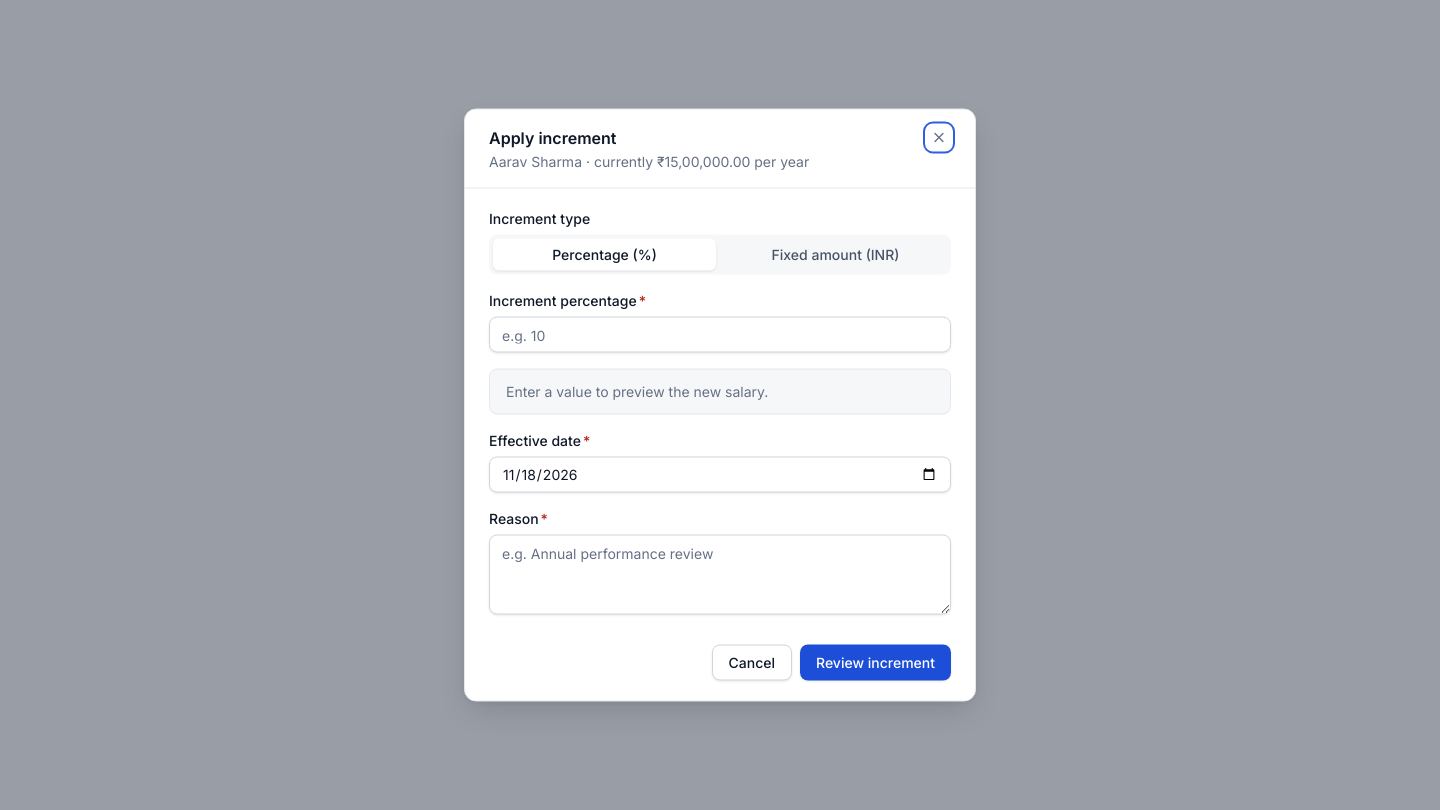
Test: IncrementDialog › switches to a fixed amount and previews the derived percentage
Click the radio button labelled "Fixed amount (INR)" at (836, 254), box [724,238,947,270]
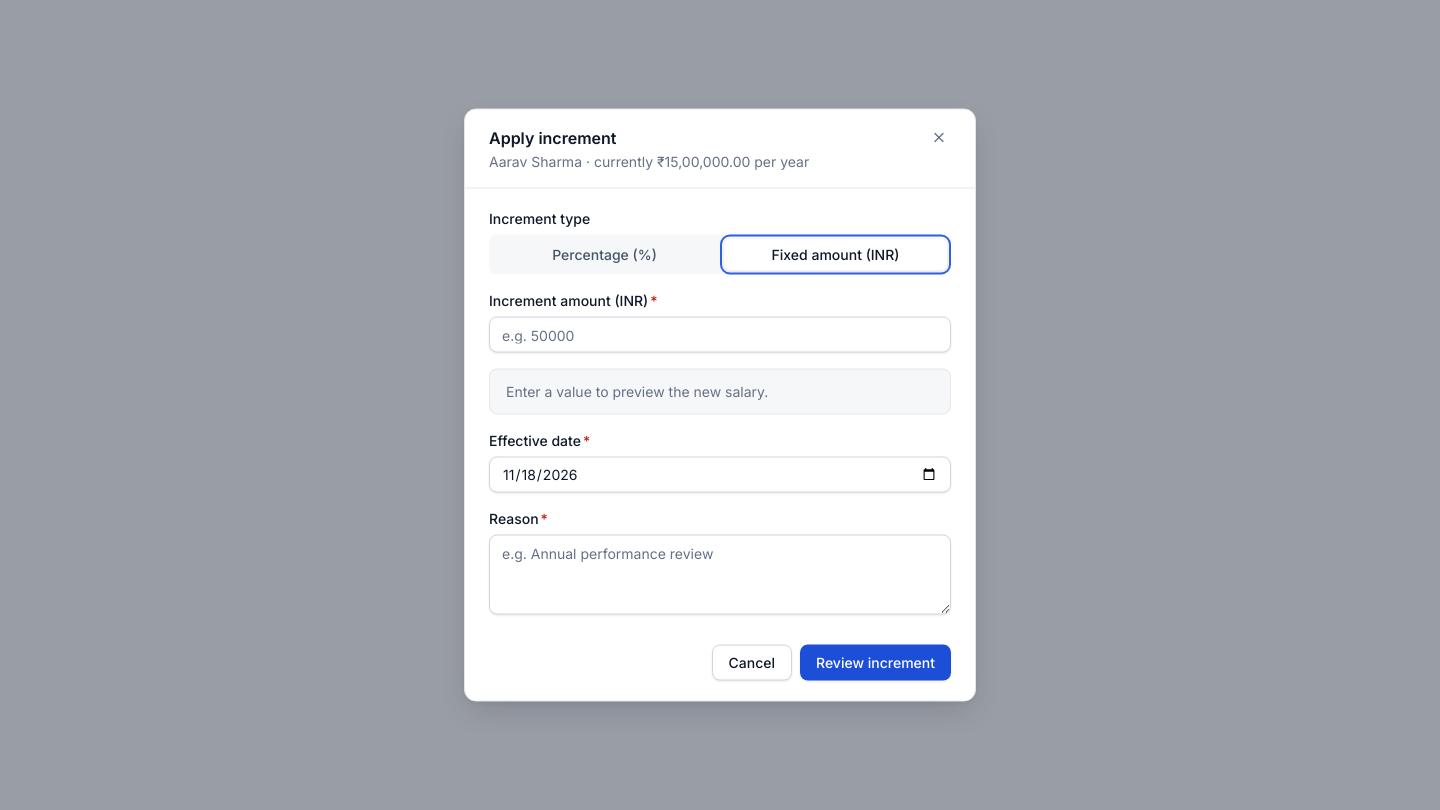
Type "75000" into the field labelled "Increment amount (INR)*" at (720, 334), box [489,316,951,352]
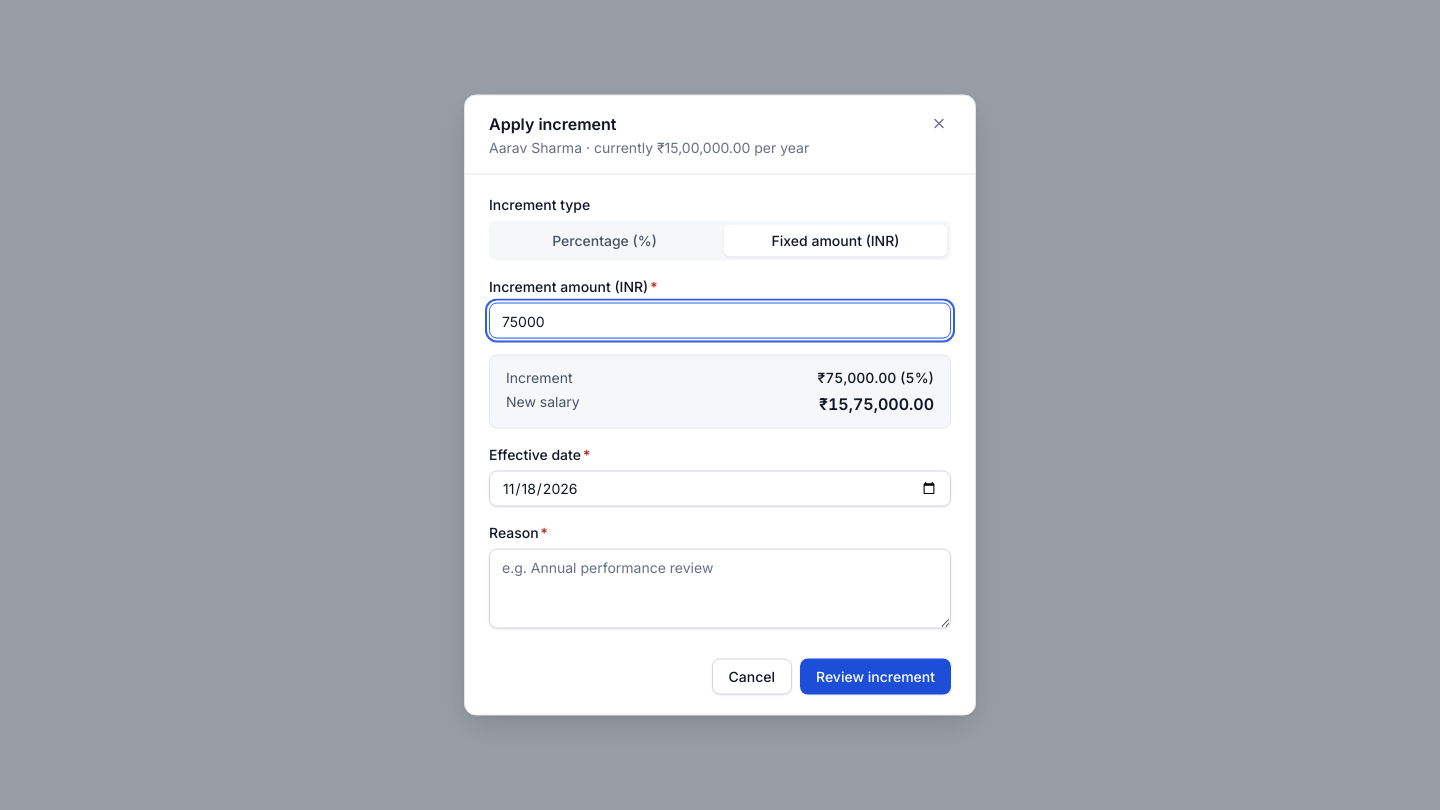
Now the text with test id "new-salary" reads "₹15,75,000.00", box [819,394,934,414]
Now the text "₹75,000.00 (5%)" is shown, box [818,368,934,386]
